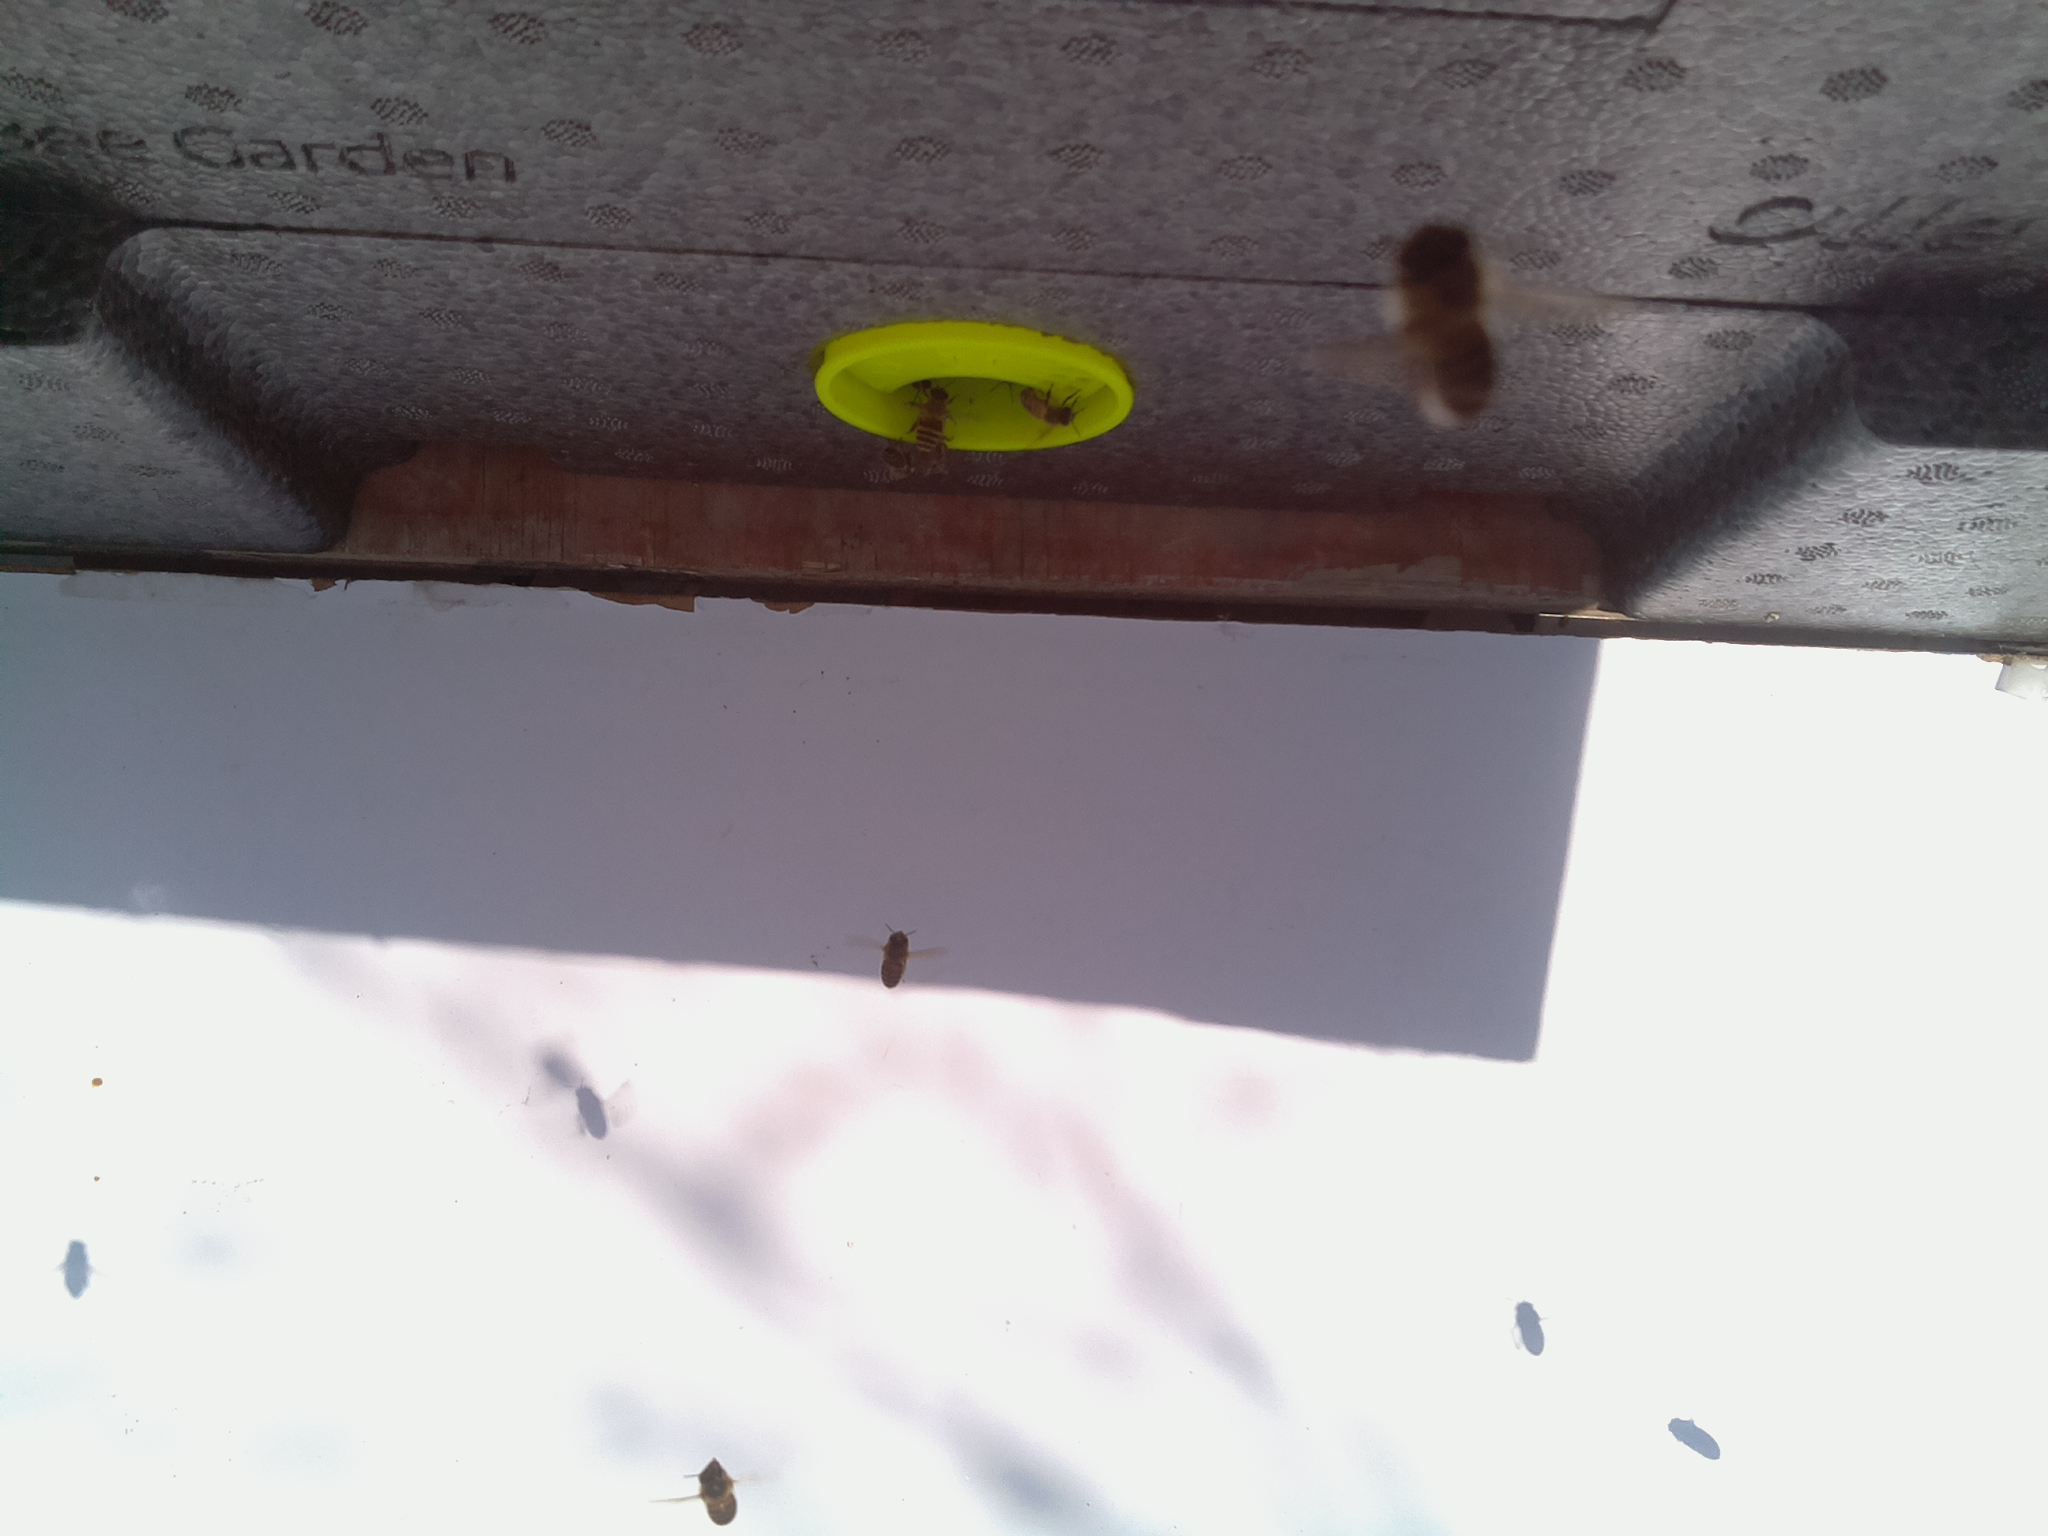bee: (1365, 213, 1516, 436), (693, 1458, 744, 1528), (1018, 382, 1082, 431), (912, 384, 954, 457), (876, 929, 913, 989)
